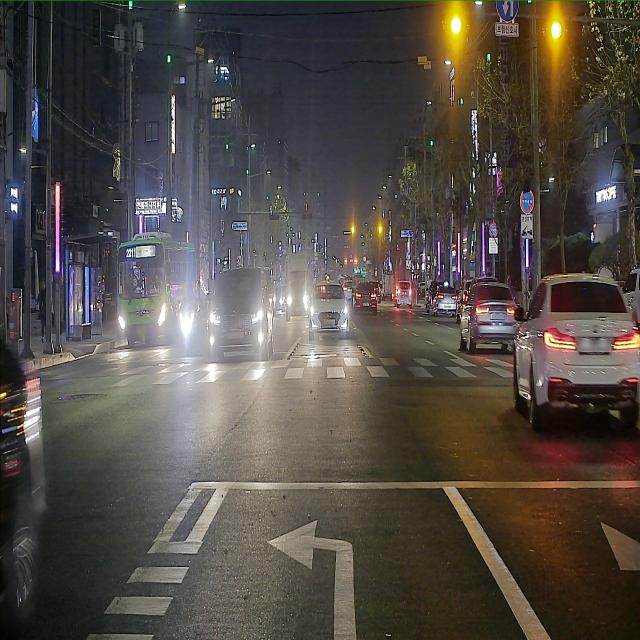Yellow Light: (450, 14, 462, 36), (551, 21, 562, 39)
